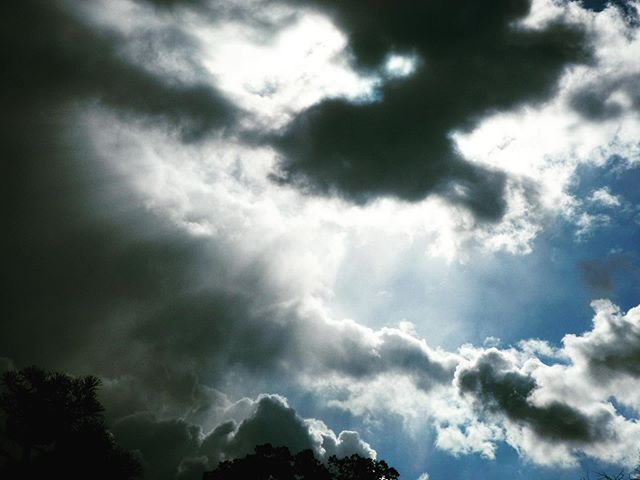sky: (1, 1, 634, 471)
tree: (1, 352, 152, 480)
